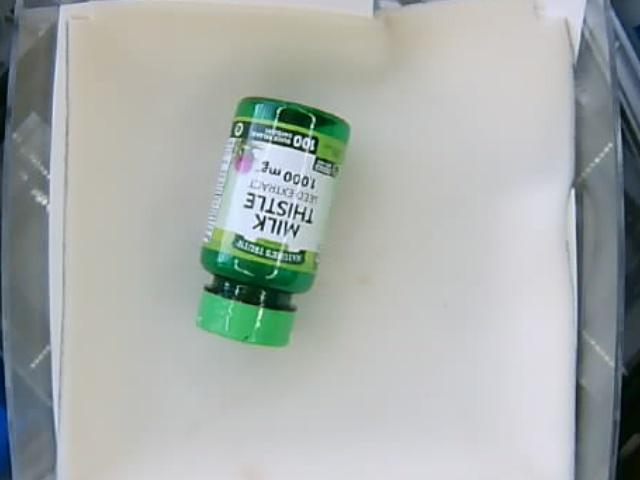Bottle: (195, 96, 346, 344)
